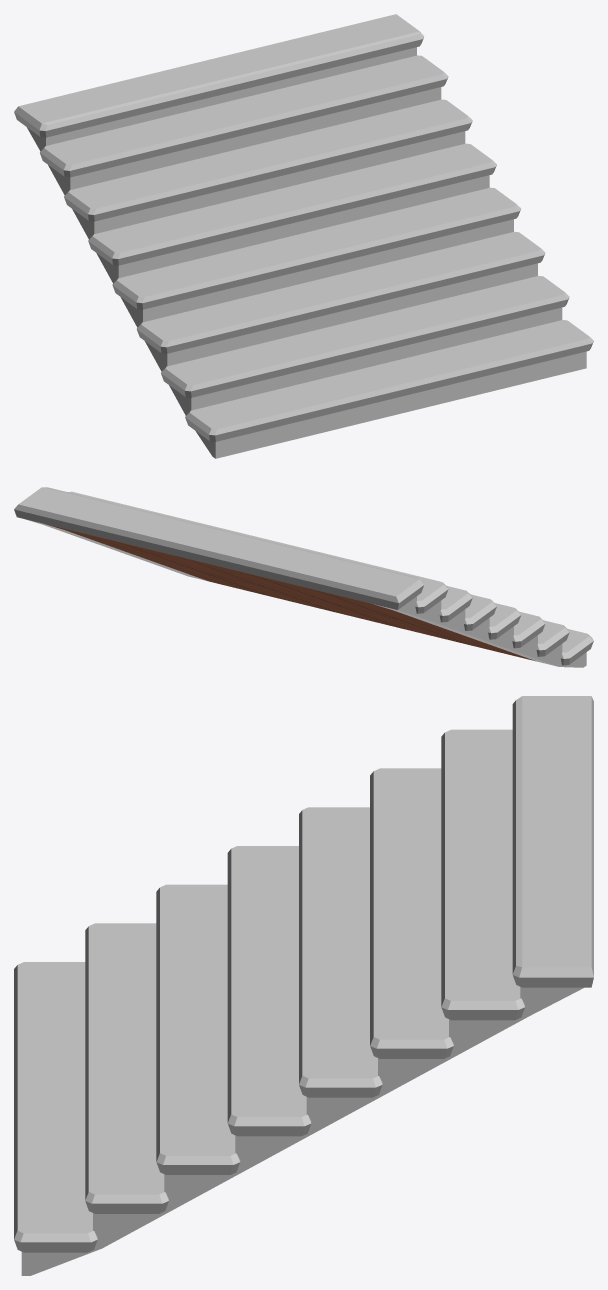
Rendered from SM_Bld_Base_Stairs_Ornate_02.fbx.
3 renders of one model, top to bottom at view 1: azimuth 30°, elevation 25°; view 2: azimuth 150°, elevation 25°; view 3: azimuth 270°, elevation 25°, orthographic. The views are drawn at different scales.
Parts seen in each view (by area): view 1: SM_Bld_Base_Stairs_Ornate_02; view 2: SM_Bld_Base_Stairs_Ornate_02; view 3: SM_Bld_Base_Stairs_Ornate_02.
Part boxes in pixels (bbox=[...]): SM_Bld_Base_Stairs_Ornate_02: bbox=[14, 14, 593, 458]; SM_Bld_Base_Stairs_Ornate_02: bbox=[14, 487, 593, 667]; SM_Bld_Base_Stairs_Ornate_02: bbox=[14, 696, 593, 1275].
Size of the model in its own units: 287 by 151 by 254.
